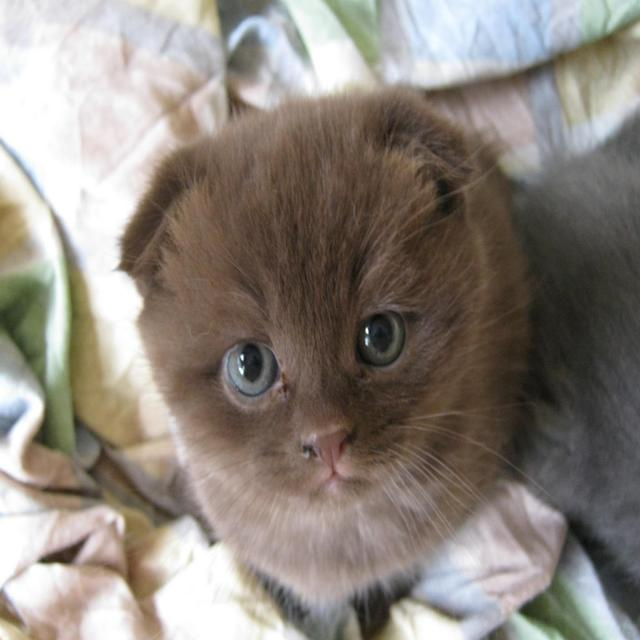Scottish Fold: (115, 76, 535, 612)
